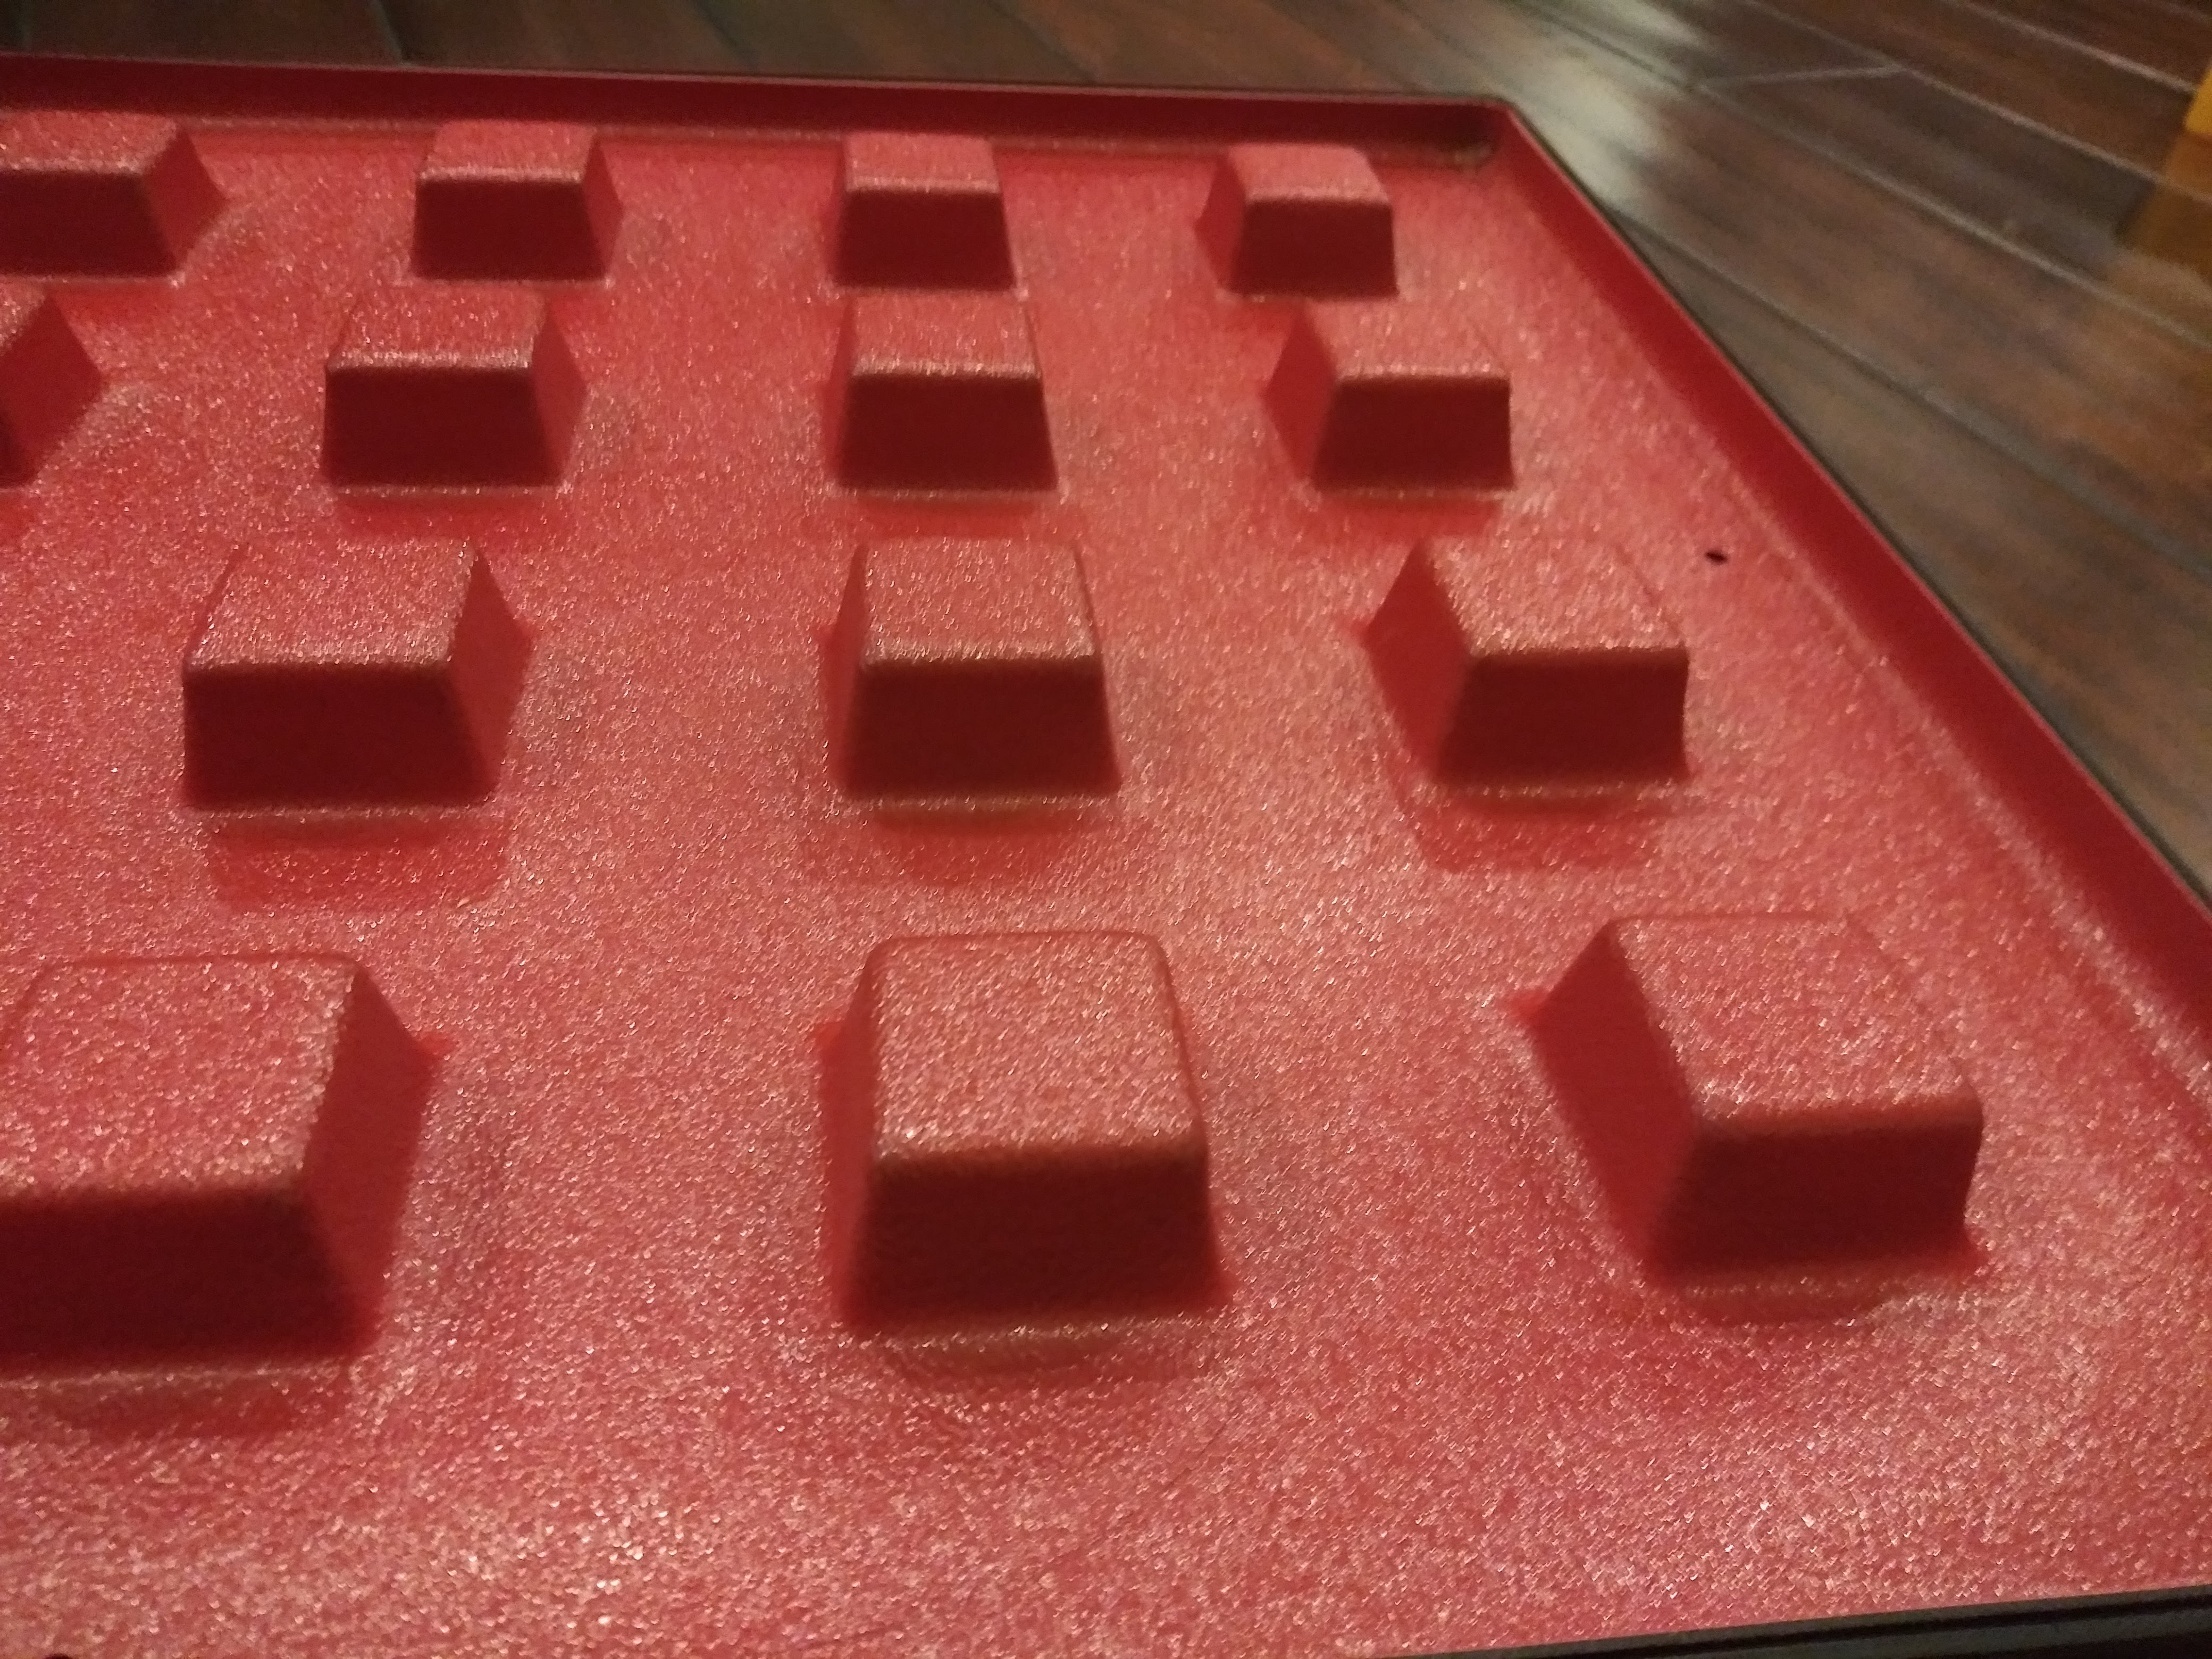red foundation: (28, 37, 2155, 1577)
